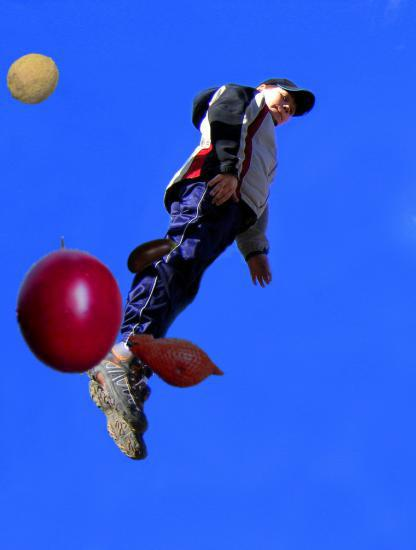Cantaloupe: (5, 51, 61, 107)
Eggplant: (122, 225, 179, 282)
Salak: (124, 310, 227, 413)
Tamarillo: (0, 236, 140, 376)
